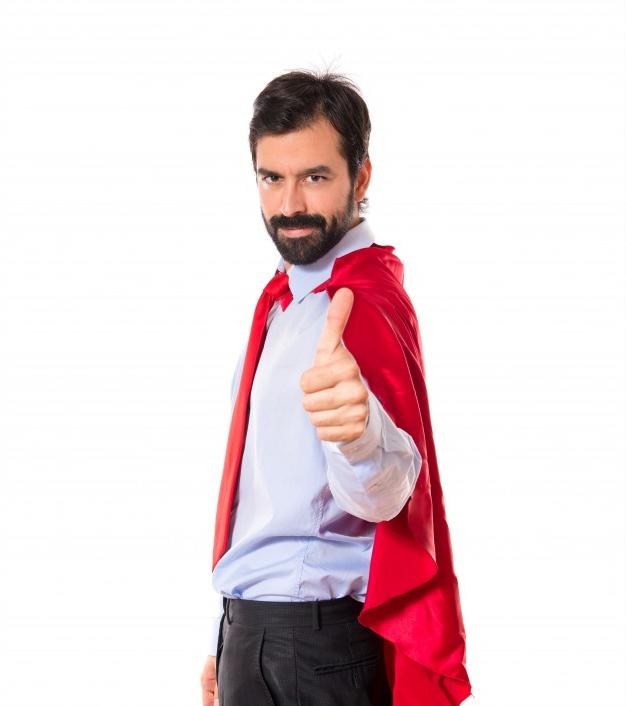thumbsup: (300, 288, 369, 442)
